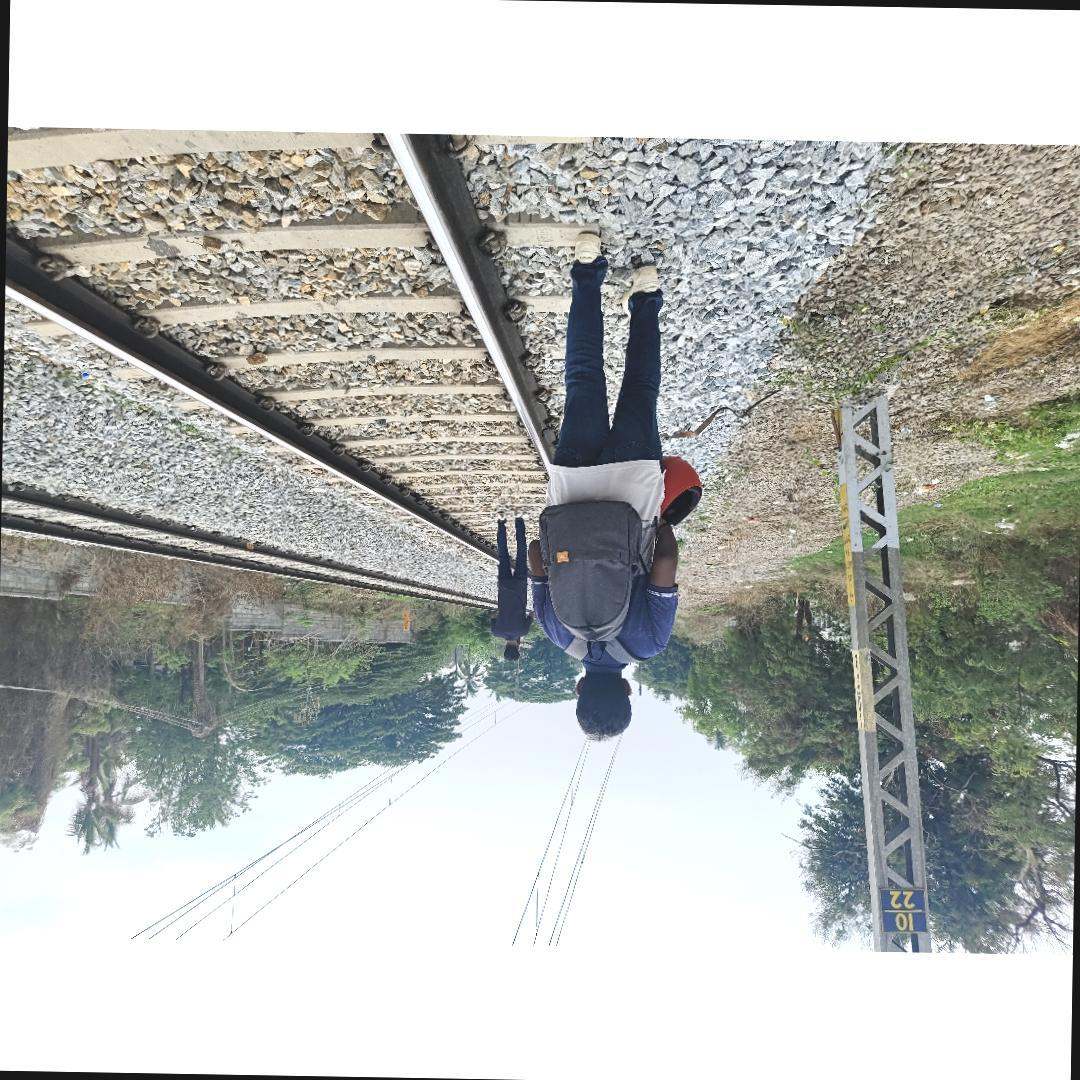standing: (515, 225, 708, 747), (477, 510, 538, 667)
track: (4, 129, 557, 566)
